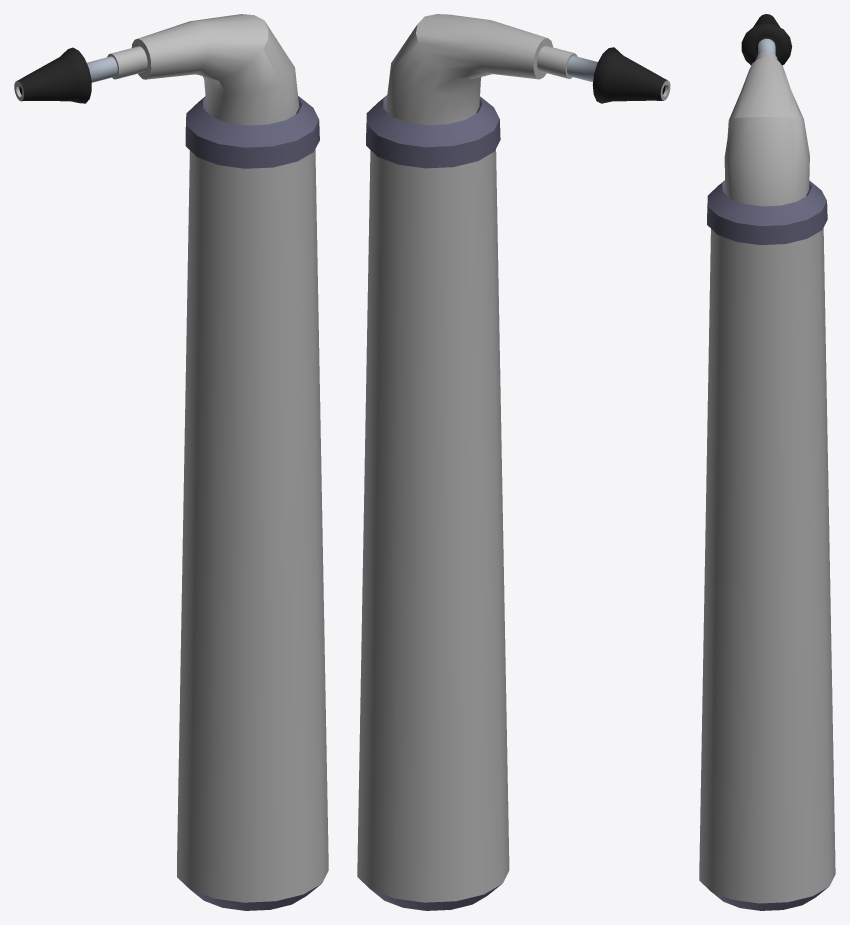
Rendered from otoscopio.fbx.
3 renders of one model, left to right at view 1: azimuth 30°, elevation 25°; view 2: azimuth 150°, elevation 25°; view 3: azimuth 270°, elevation 25°, orthographic. The views are drawn at different scales.
Parts seen in each view (by area): view 1: Cylinder; view 2: Cylinder; view 3: Cylinder.
Part boxes in pixels (<box>): Cylinder: <box>14,14,328,910</box>; Cylinder: <box>357,14,670,910</box>; Cylinder: <box>699,14,835,910</box>.
Size of the model in its own units: 7.65 by 21.48 by 3.36.
